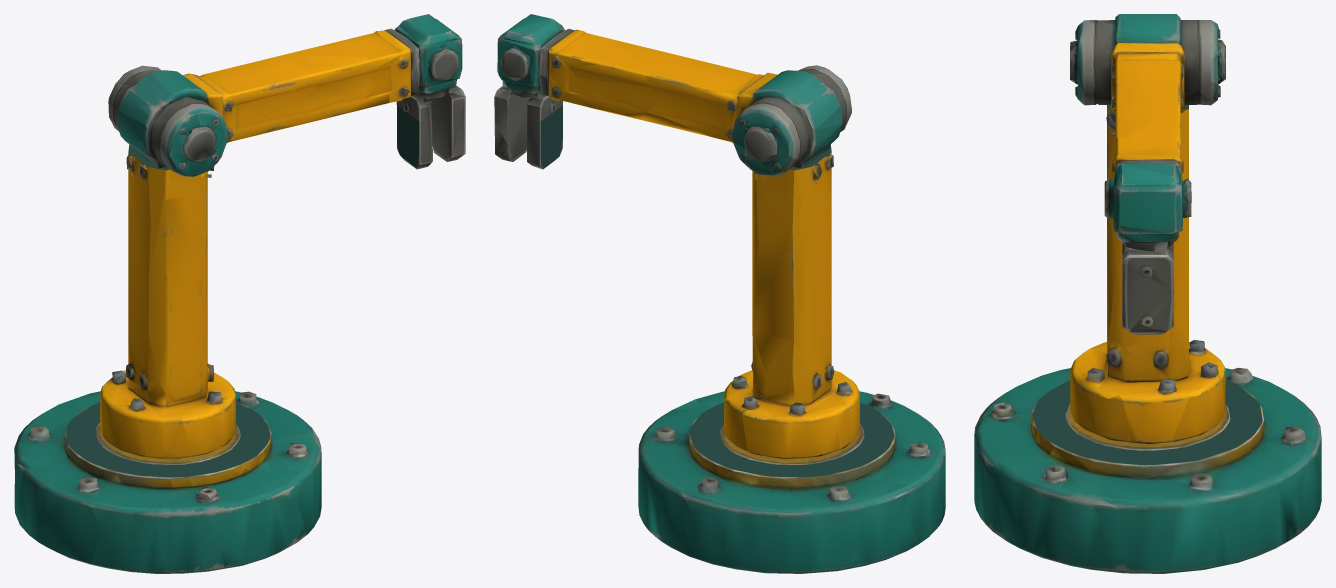
File: robot-arm.glb
3 views of the same model, side by side, from view 1: azimuth 30°, elevation 25°; view 2: azimuth 150°, elevation 25°; view 3: azimuth 270°, elevation 25° (orthographic). The views are drawn at different scales.
Parts seen in each view (by area): view 1: foot-geometry, turret-geometry, arm-geometry, claw-geometry; view 2: foot-geometry, turret-geometry, arm-geometry, claw-geometry; view 3: foot-geometry, turret-geometry, arm-geometry, claw-geometry.
Boxes of the visible parts, x1,y1,x2,y2 form: foot-geometry: (14, 391, 321, 573); turret-geometry: (96, 144, 240, 464); arm-geometry: (108, 28, 421, 189); claw-geometry: (394, 14, 465, 169); foot-geometry: (638, 391, 945, 573); turret-geometry: (719, 144, 864, 464); arm-geometry: (538, 28, 851, 189); claw-geometry: (494, 14, 563, 169); foot-geometry: (974, 367, 1321, 573); turret-geometry: (1065, 104, 1230, 450); arm-geometry: (1070, 14, 1225, 173); claw-geometry: (1104, 163, 1191, 334).
Bounding box in the file's own units: 1.43 × 1.39 × 0.9.
1 material, 1 textured.
